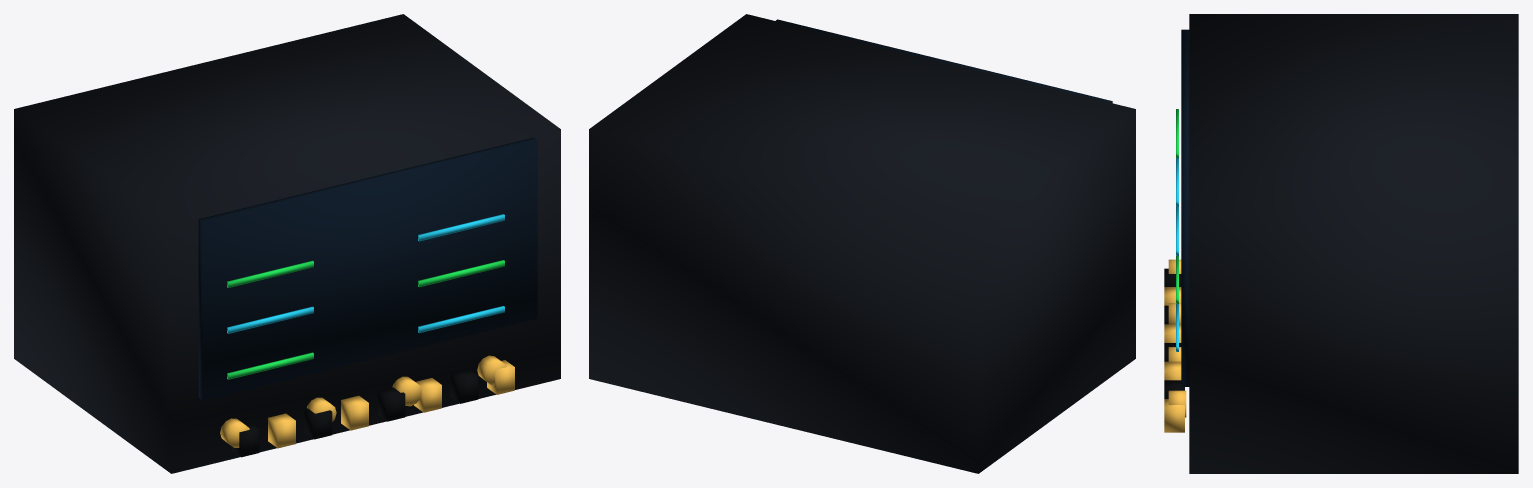
The model's file is 46_L94_FourChannelLogicAnalyzer.fbx.
3 views of the same model, side by side, from view 1: azimuth 30°, elevation 25°; view 2: azimuth 150°, elevation 25°; view 3: azimuth 270°, elevation 25° (orthographic). The views are drawn at different scales.
Visible parts, largest first — view 1: L94_FourChannelLogicAnalyzer; view 2: L94_FourChannelLogicAnalyzer; view 3: L94_FourChannelLogicAnalyzer.
Boxes of the visible parts, left/top/right/bottom form: L94_FourChannelLogicAnalyzer: left=14, top=14, right=560, bottom=473; L94_FourChannelLogicAnalyzer: left=589, top=14, right=1135, bottom=473; L94_FourChannelLogicAnalyzer: left=1164, top=14, right=1518, bottom=473.
Bounding box in the file's own units: 80 × 49 × 60.25.
